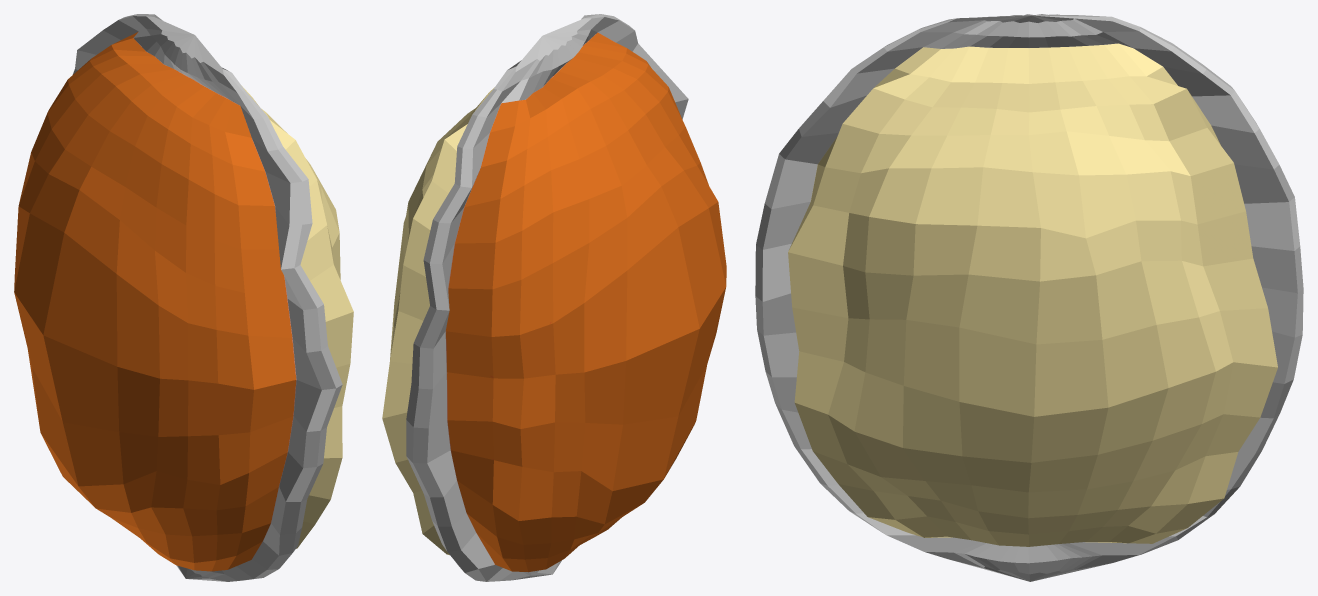
File: TatuShell.fbx
The picture shows the model from 3 angles, left to right: view 1: azimuth 30°, elevation 25°; view 2: azimuth 150°, elevation 25°; view 3: azimuth 270°, elevation 25°; orthographic projection. The views are drawn at different scales.
Visible parts, largest first — view 1: TatuBody; view 2: TatuBody; view 3: TatuBody.
Boxes of the visible parts, bbox=[...] form: TatuBody: bbox=[14, 14, 353, 581]; TatuBody: bbox=[382, 14, 726, 581]; TatuBody: bbox=[755, 14, 1303, 581].
Bounding box in the file's own units: 33.14 × 63.81 × 55.47.
